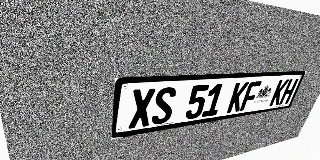1: (201, 83, 226, 117)
5: (185, 84, 210, 120)
F: (239, 81, 262, 111)
H: (279, 79, 299, 105)
K: (226, 82, 249, 113), (269, 79, 289, 106)
S: (151, 87, 177, 125)
X: (128, 88, 156, 129)
